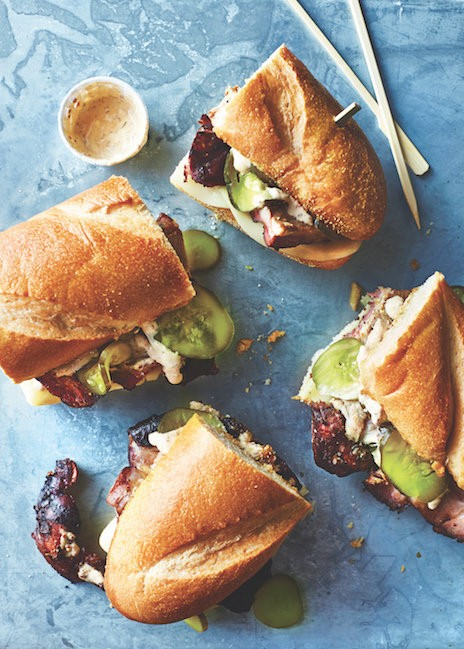sandwich: (41, 390, 331, 634), (151, 63, 412, 275), (1, 172, 234, 408), (290, 275, 464, 547)
